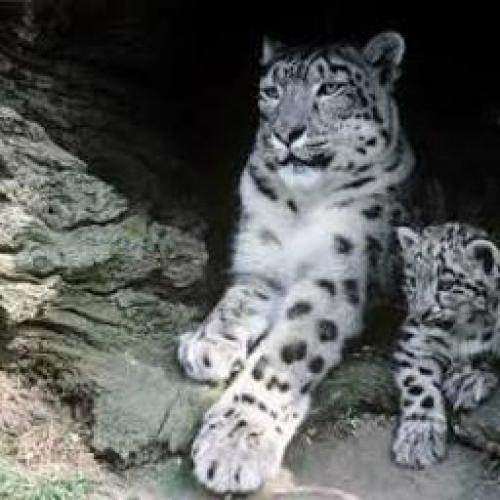amur_leopard-endangered: (177, 31, 417, 492), (390, 218, 500, 416)
